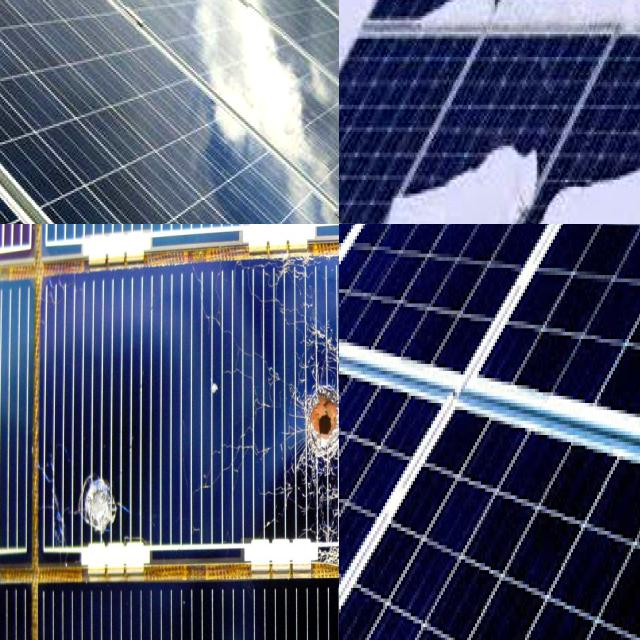crack: (339, 224, 640, 497), (0, 0, 339, 224), (339, 266, 542, 640), (339, 407, 637, 640), (339, 377, 557, 640), (480, 224, 640, 549)
hotspot: (57, 452, 129, 542)
panel: (501, 0, 615, 46), (512, 156, 587, 224), (447, 151, 513, 224), (585, 146, 640, 224), (404, 0, 487, 50), (399, 0, 495, 43), (388, 164, 445, 224), (339, 0, 392, 53), (339, 0, 403, 34), (339, 0, 405, 30), (339, 185, 389, 224), (339, 0, 380, 45), (339, 0, 386, 27), (339, 0, 384, 26), (339, 0, 367, 29)
shadow: (272, 333, 339, 499)
